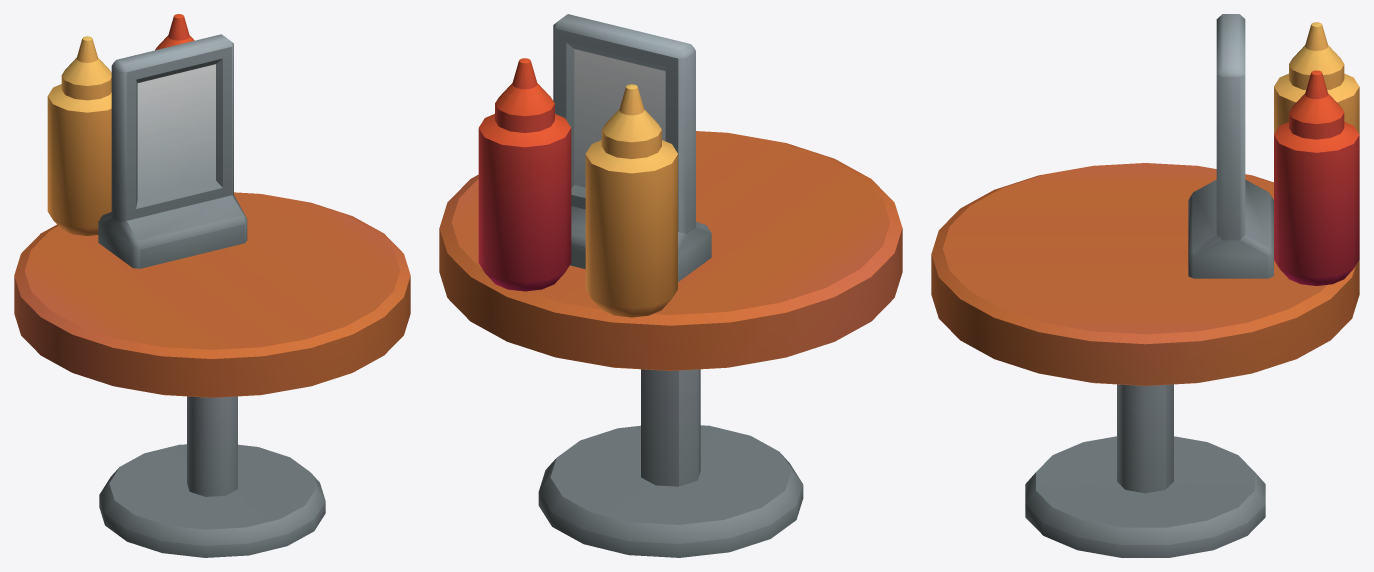
Rendered from kay-mesa-redonda-pequena.gltf.
The picture shows the model from 3 angles, left to right: view 1: azimuth 30°, elevation 25°; view 2: azimuth 150°, elevation 25°; view 3: azimuth 270°, elevation 25°; orthographic projection. The views are drawn at different scales.
Visible parts, largest first — view 1: table_round_A_small_decorated; view 2: table_round_A_small_decorated; view 3: table_round_A_small_decorated.
Boxes of the visible parts, x1,y1,x2,y2 form: table_round_A_small_decorated: (14, 14, 410, 557); table_round_A_small_decorated: (439, 14, 902, 557); table_round_A_small_decorated: (931, 14, 1359, 557).
Size of the model in its own units: 0.975 by 1.17 by 0.975.
1 material, 1 textured.
